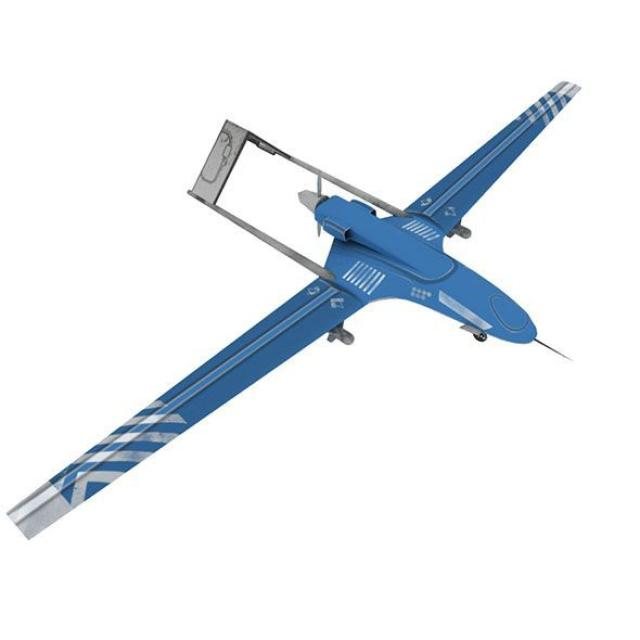iha: (7, 69, 583, 546)
